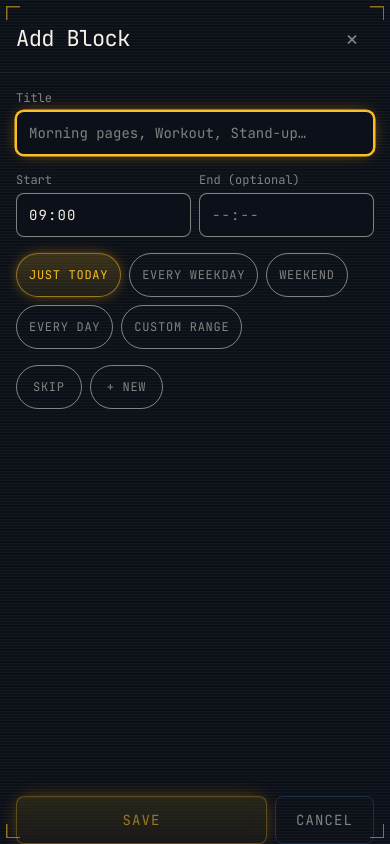
Test: C-m2-003: Empty Title disables Save › typing Title flips Save aria-disabled to false and clicking Save invokes onSave
Later steps or results of the test are not shown.
Type "Foo" into the field labelled "Title" at (195, 133), box [16, 111, 374, 155]
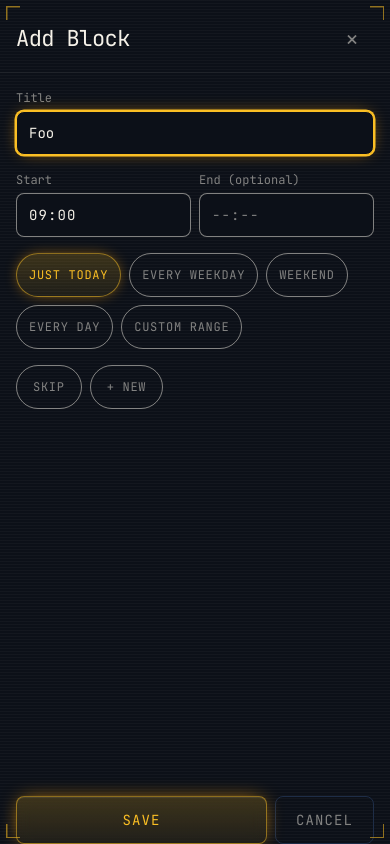
Now the button "Save" is enabled, box [16, 796, 267, 843]
